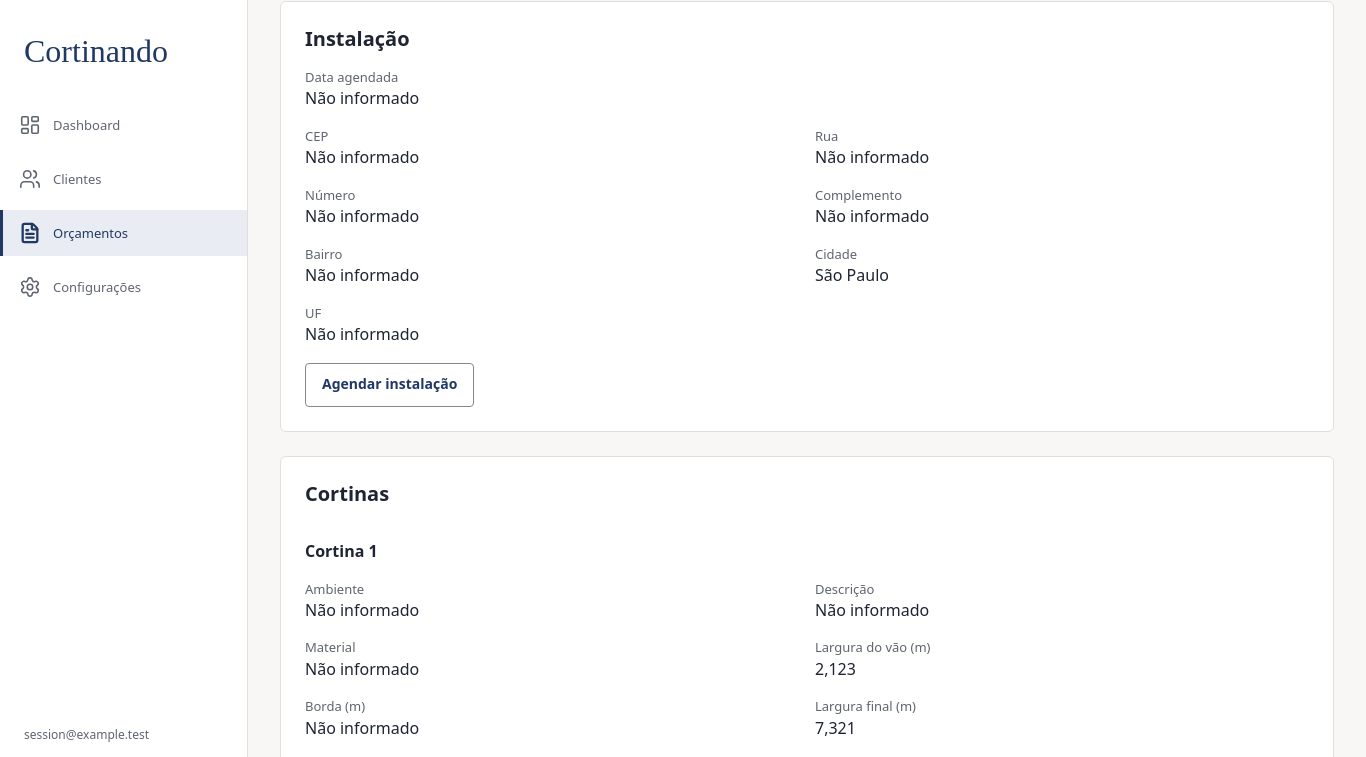
Test: schedules a past instant in CONFIRMED and uses the returned late flag
(page scrolled)
Click the button "Agendar instalação" at (390, 385), box [305,363,474,407]
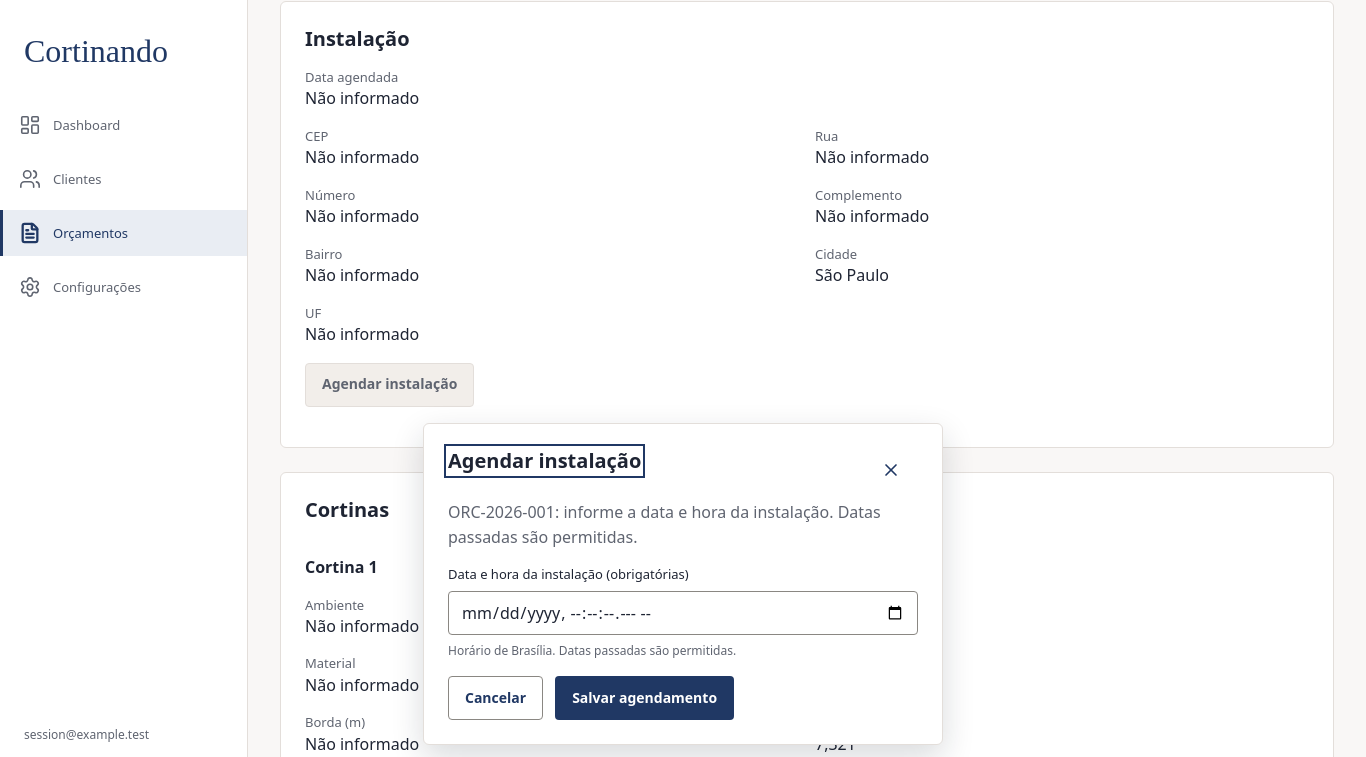
Click the button "Salvar agendamento" at (645, 698), box [555,676,734,720]
(page scrolled)
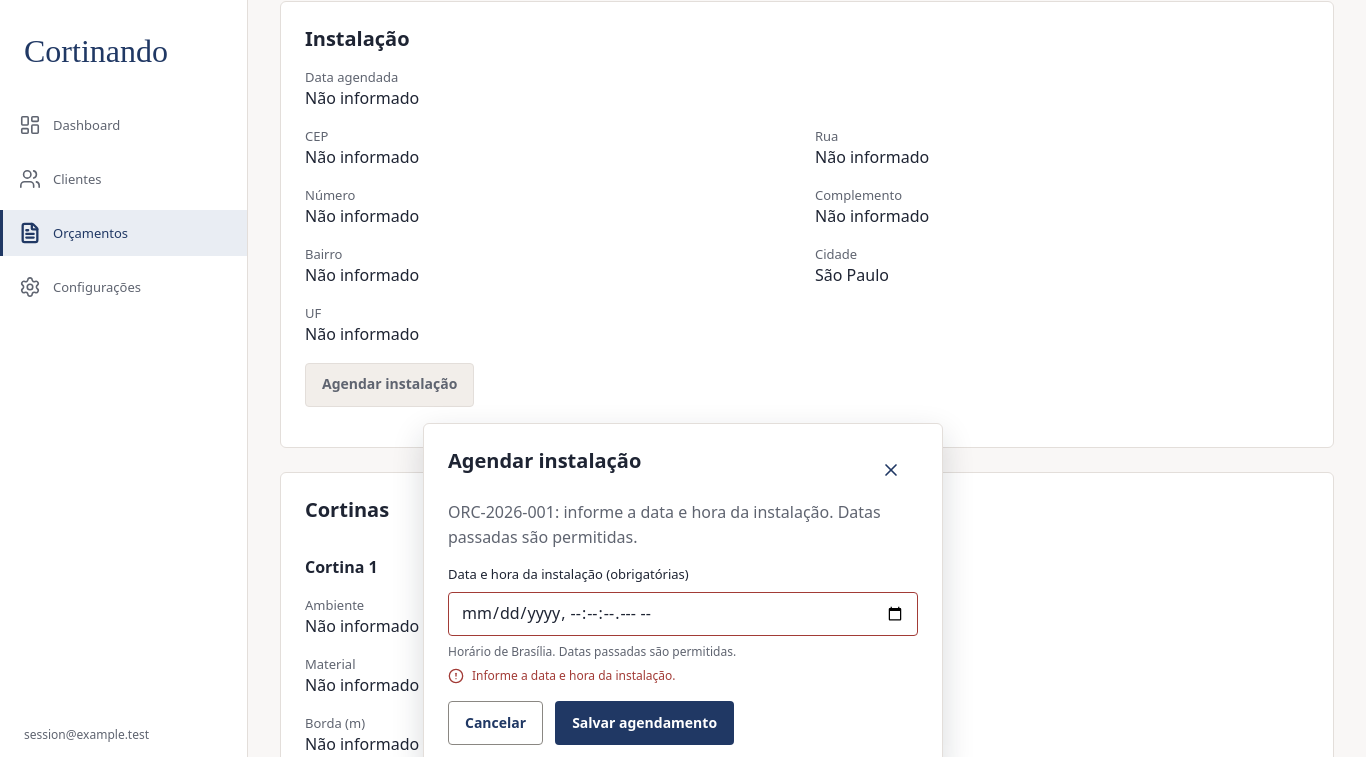
Expected: the text "Informe a data e hora da instalação." is shown, [472,668,676,685]
Type "2000-07-01T12:30" into the field labelled "Data e hora da instalação (obrigatórias)" at (683, 614), box [448,592,918,636]
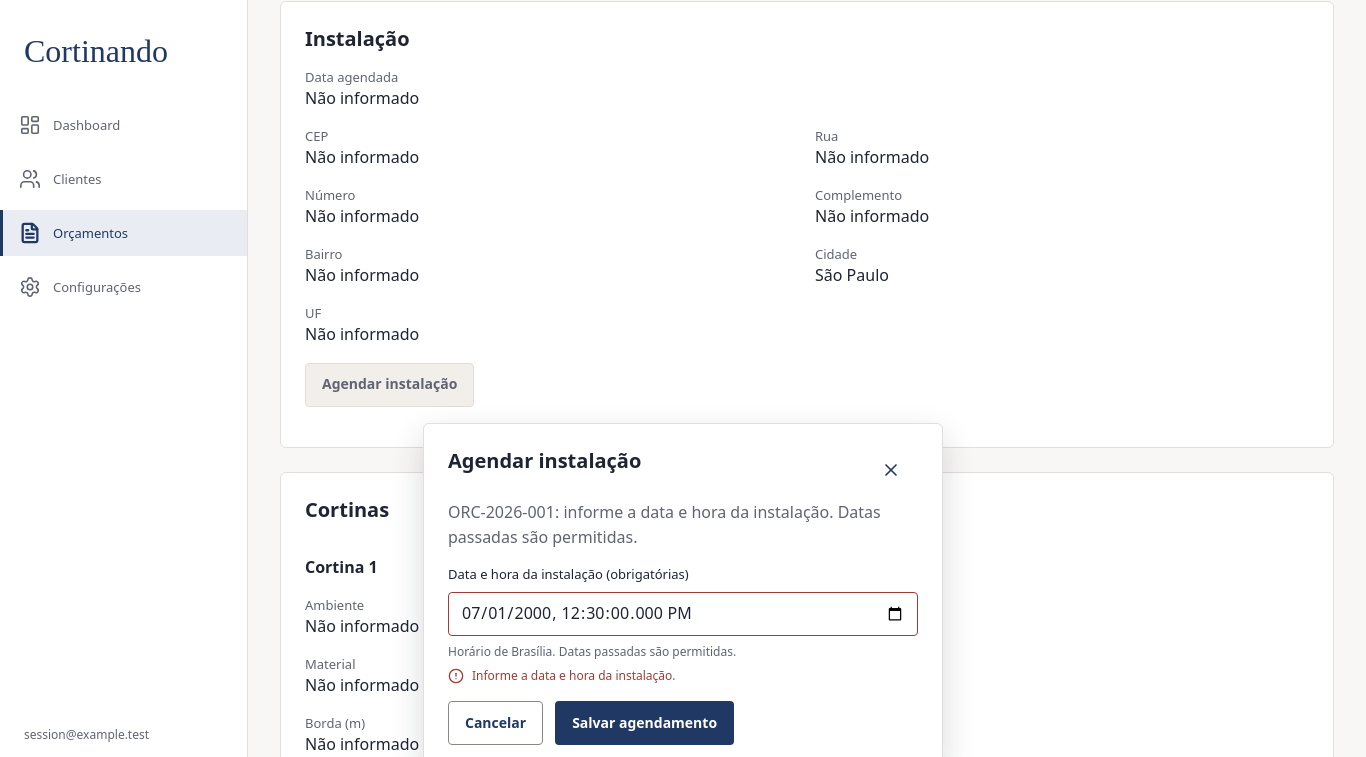
Click the button "Salvar agendamento" at (645, 723), box [555,701,734,745]
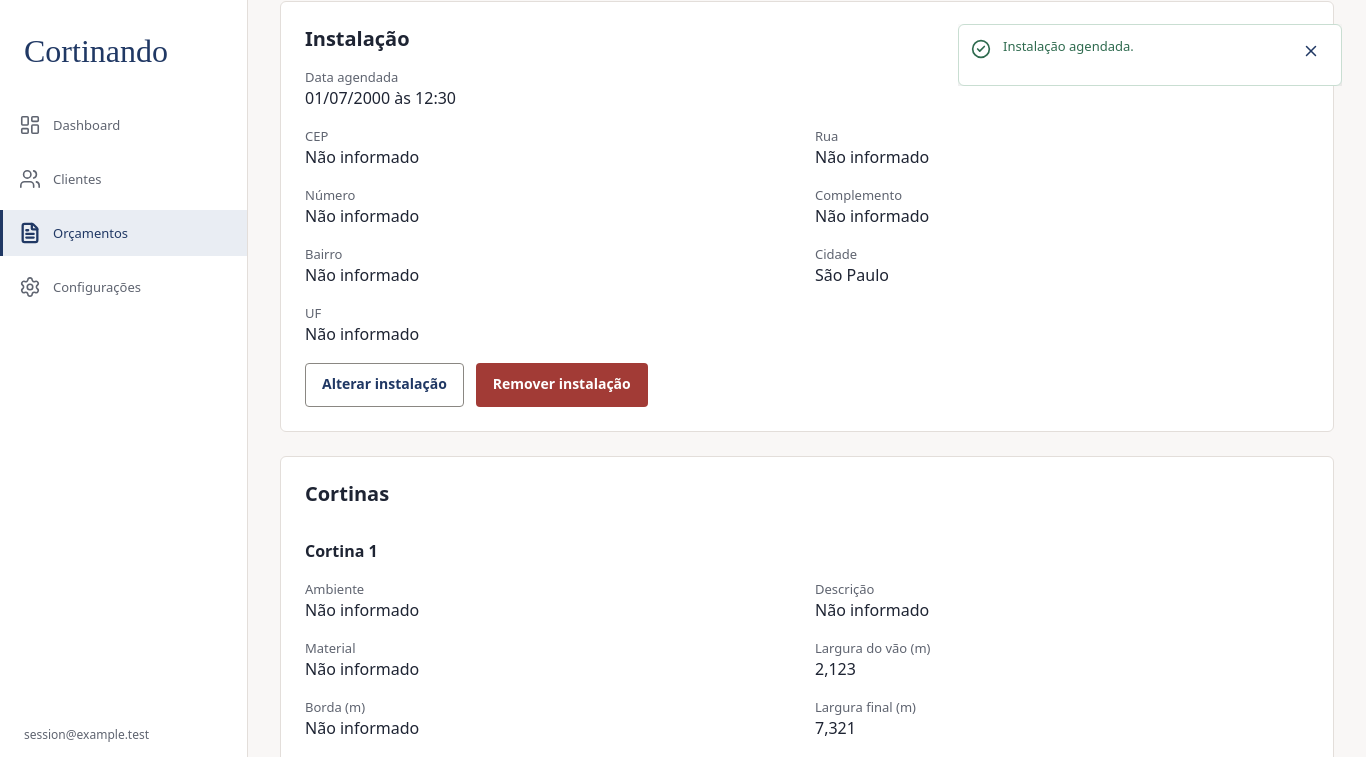
Expected: the button "Alterar instalação" is shown, [305,363,464,407]
